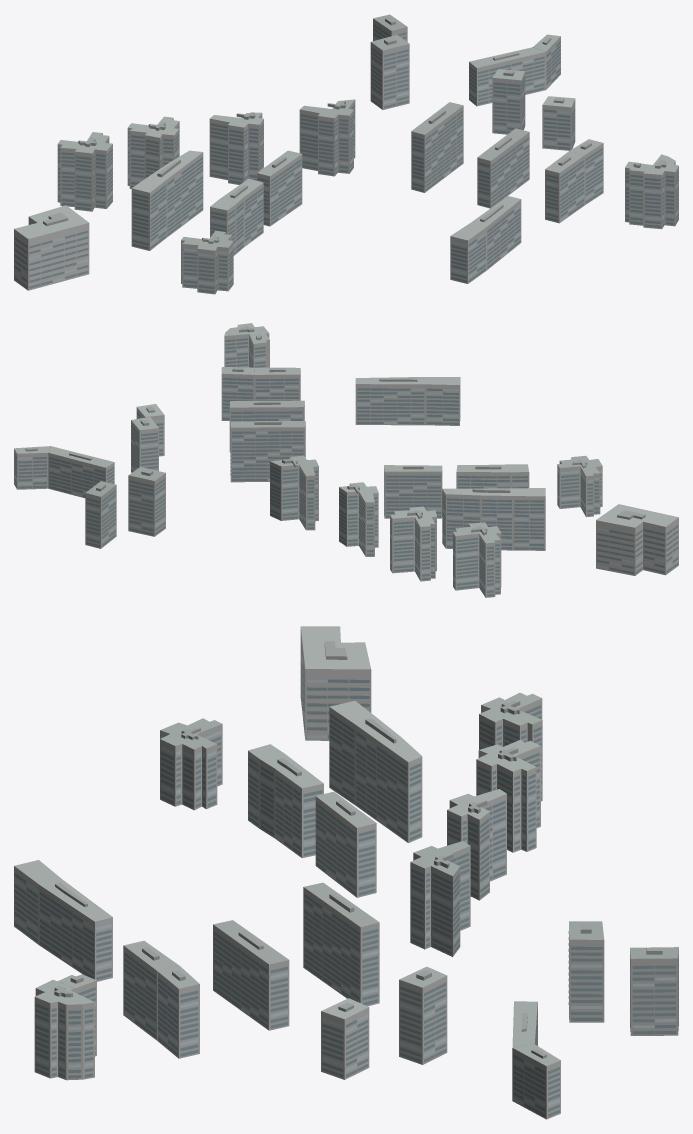
The model's file is apt-a41279910.glb.
The picture shows the model from 3 angles, top to bottom: view 1: azimuth 30°, elevation 25°; view 2: azimuth 150°, elevation 25°; view 3: azimuth 270°, elevation 25°; orthographic projection. The views are drawn at different scales.
Visible parts, largest first — view 1: apt-a41279910; view 2: apt-a41279910; view 3: apt-a41279910.
Part boxes in pixels (x1,y1,x2,y2): apt-a41279910: (14,14,678,294); apt-a41279910: (14,323,678,597); apt-a41279910: (14,626,678,1119).
Size of the model in its own units: 469 by 45 by 313.
